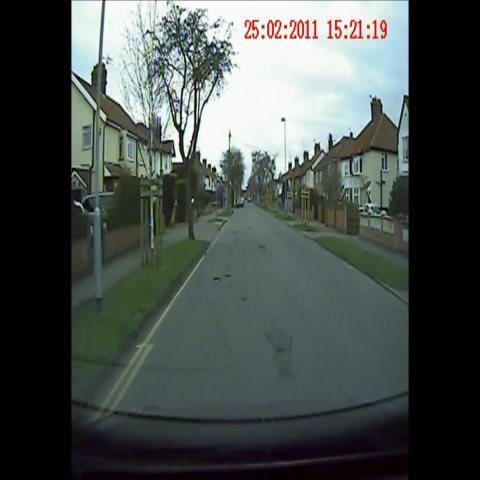pothole: (268, 325, 292, 366), (210, 265, 234, 290), (253, 233, 270, 260), (238, 283, 255, 309), (245, 219, 259, 239), (229, 222, 241, 238)
